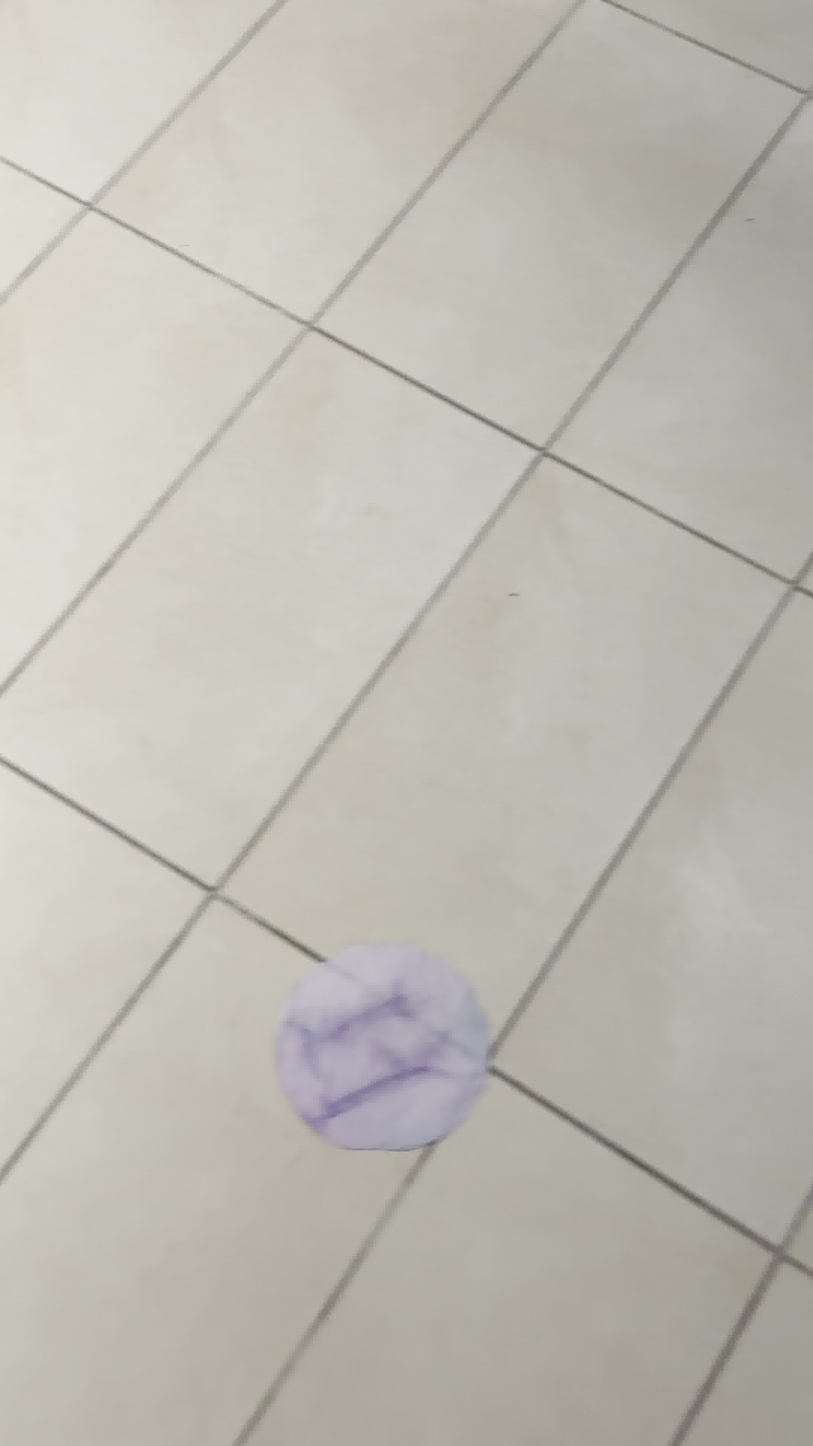Target: (274, 943, 489, 1153)
